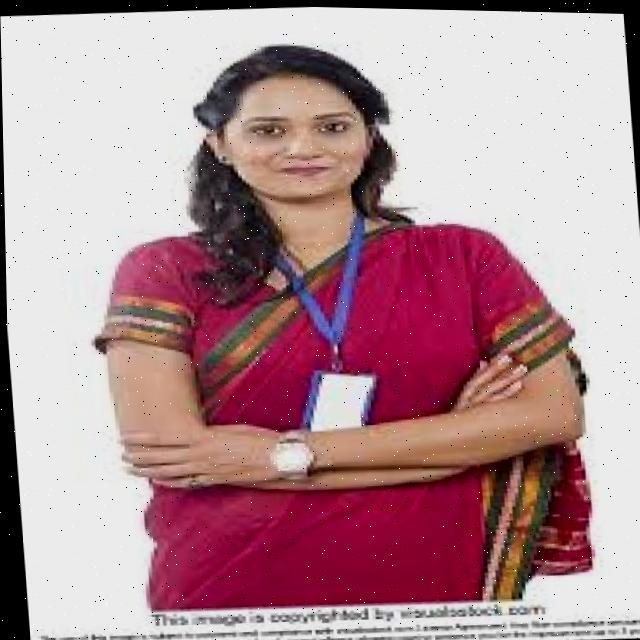id_card: (250, 203, 393, 434)
